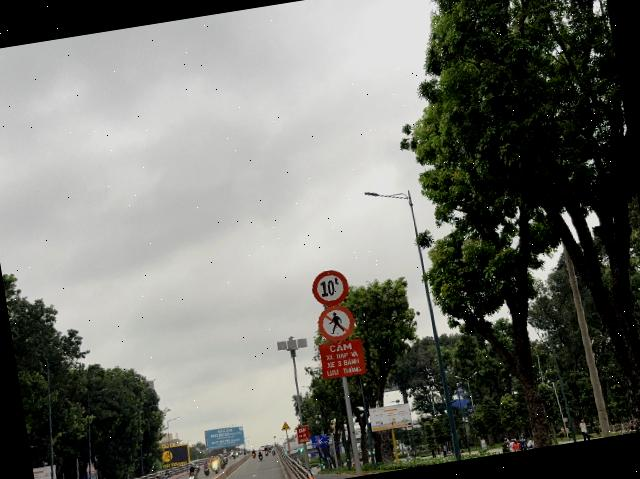cam-nguoi-di-bo: (315, 303, 357, 344)
han-che-trong-luong-xe: (310, 268, 350, 308)
